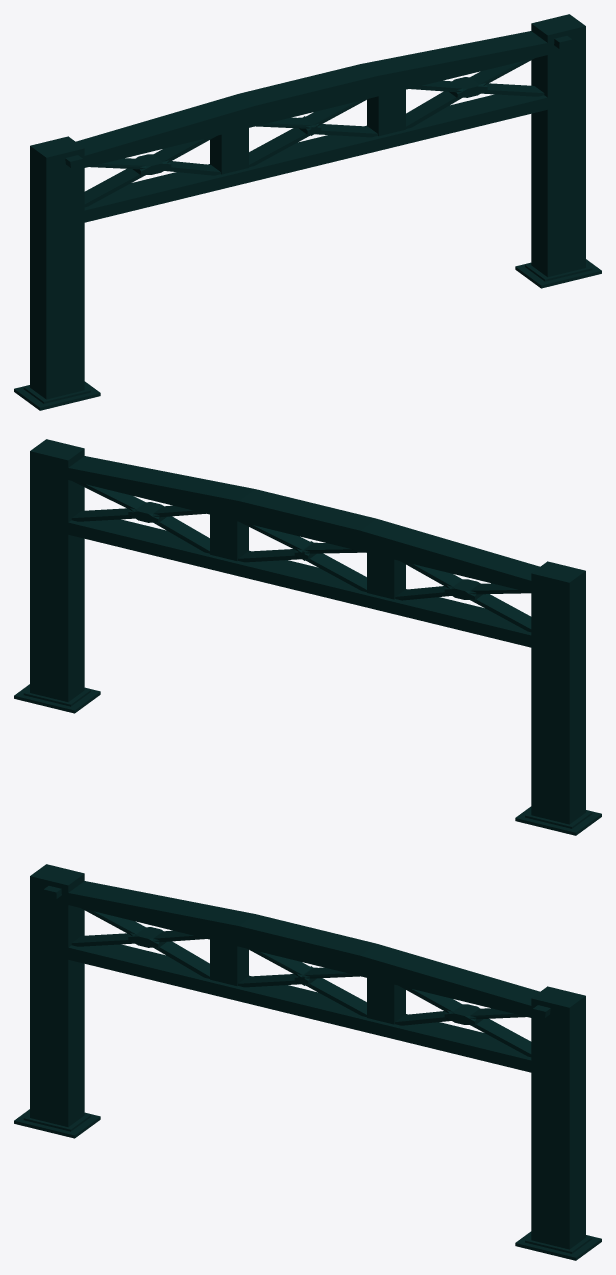
The model's file is Checkpoint.fbx.
3 renders of one model, top to bottom at view 1: azimuth 30°, elevation 25°; view 2: azimuth 150°, elevation 25°; view 3: azimuth 330°, elevation 25°, orthographic.
Visible parts, largest first — view 1: BridgeTower; view 2: BridgeTower; view 3: BridgeTower.
Part boxes in pixels (left/top/right/bottom): BridgeTower: left=14, top=14, right=601, bottom=410; BridgeTower: left=14, top=439, right=601, bottom=835; BridgeTower: left=14, top=864, right=601, bottom=1260.
Size of the model in its own units: 507 by 214 by 41.12.
